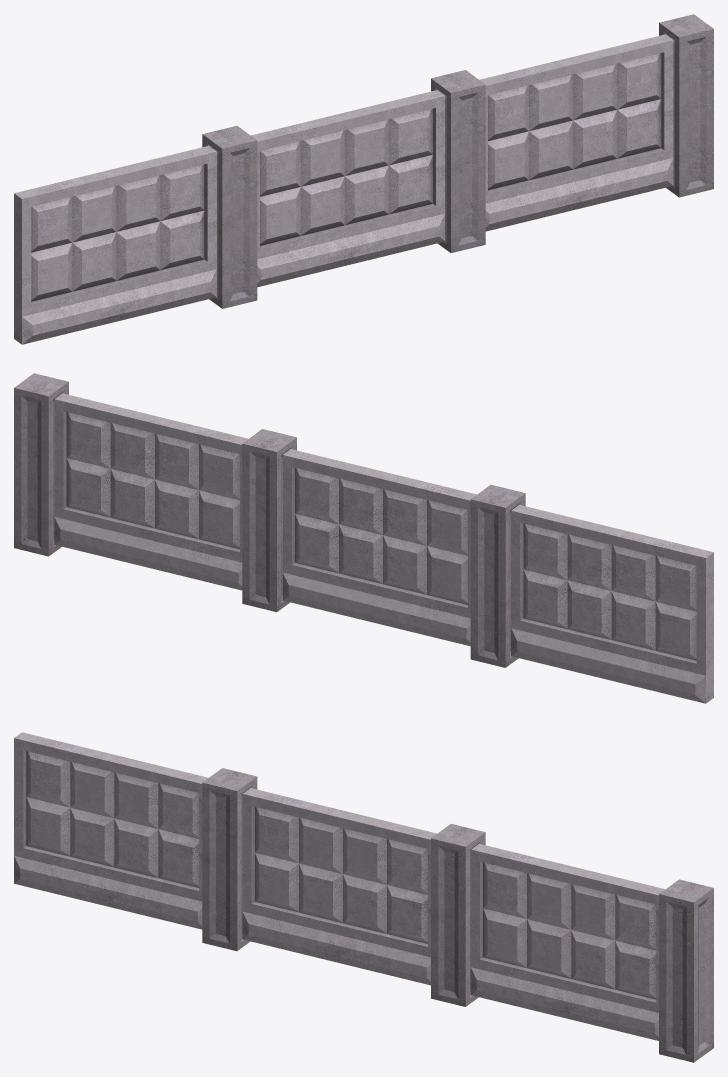
The model's file is wall_with_column.glb.
3 renders of one model, top to bottom at view 1: azimuth 30°, elevation 25°; view 2: azimuth 150°, elevation 25°; view 3: azimuth 330°, elevation 25°, orthographic.
Parts seen in each view (by area): view 1: Box002, Box004, Box003; view 2: Box002, Box004, Box003; view 3: Box004, Box002, Box003.
Boxes of the visible parts, box(x1,y1,x2,y2) form: Box002: box(14, 125, 257, 344); Box004: box(479, 14, 713, 231); Box003: box(251, 70, 485, 287); Box002: box(470, 484, 713, 703); Box004: box(14, 373, 248, 590); Box003: box(242, 429, 476, 646); Box004: box(470, 843, 713, 1062); Box002: box(14, 732, 257, 951); Box003: box(242, 788, 485, 1006).
Size of the model in its own units: 493 by 110 by 25.
Materials: 1 (1 with a texture image).
